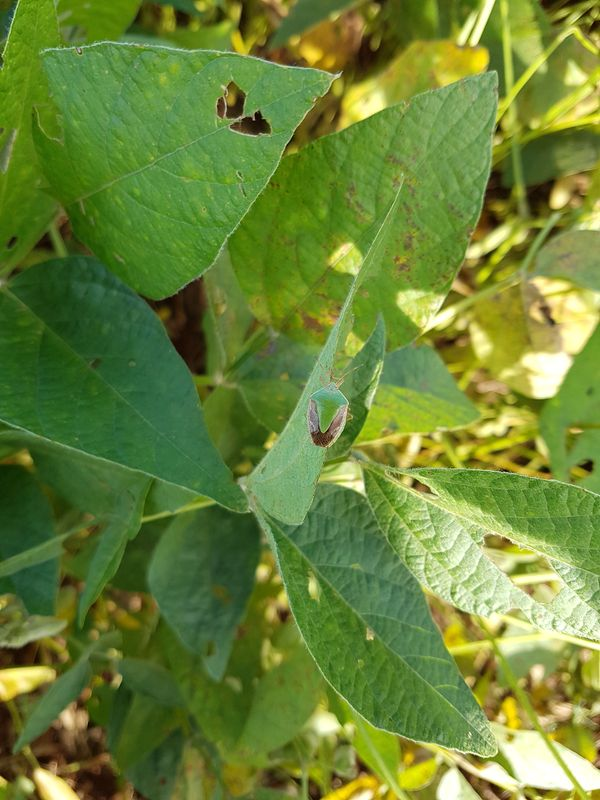Edessa_meditabunda: (288, 361, 376, 464)
